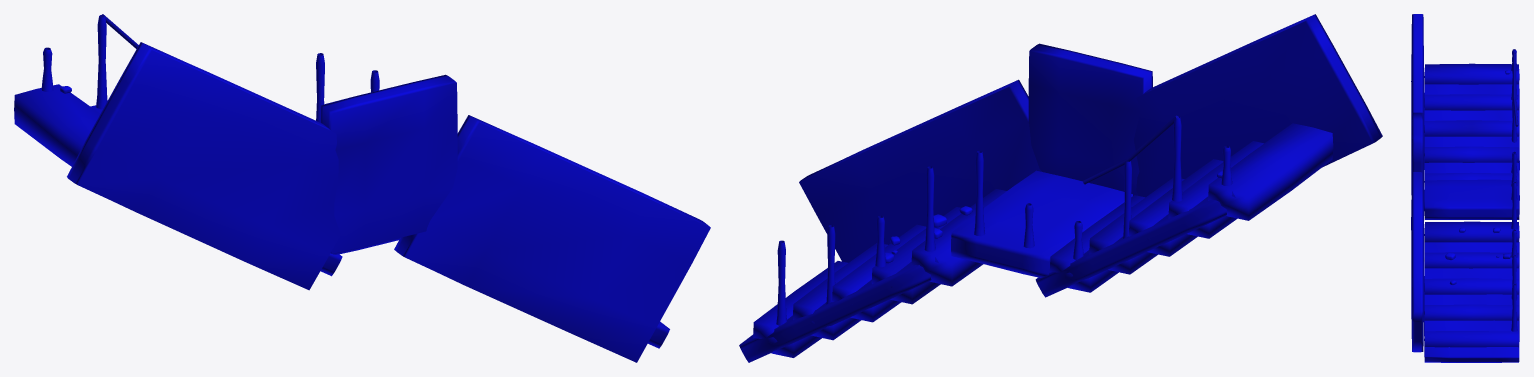
The model's file is stair_flight.glb.
3 renders of one model, left to right at view 1: azimuth 30°, elevation 25°; view 2: azimuth 150°, elevation 25°; view 3: azimuth 270°, elevation 25°, orthographic. The views are drawn at different scales.
Parts seen in each view (by area): view 1: stair_flight; view 2: stair_flight; view 3: stair_flight.
Part boxes in pixels (x1,y1,x2,y2): stair_flight: (14, 14, 710, 362); stair_flight: (739, 14, 1382, 362); stair_flight: (1411, 14, 1519, 362).
Size of what is drawn, in the model's own units: 6.97 by 4.58 by 2.05.
